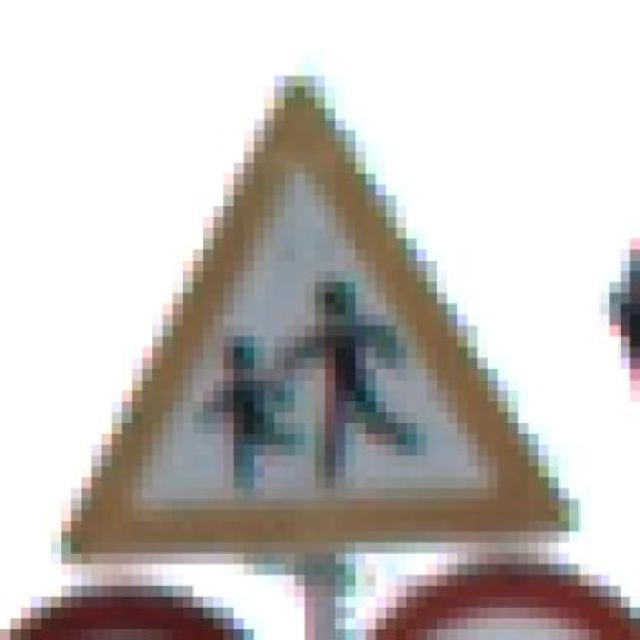Beware of children: (44, 49, 573, 571)
